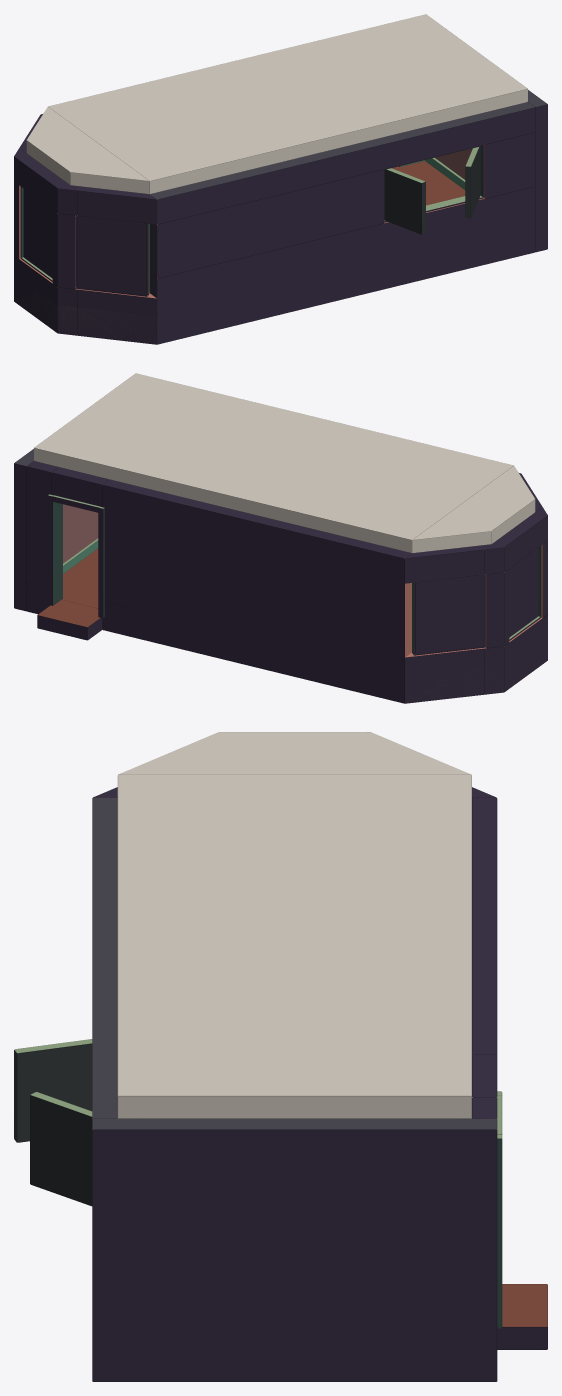
Rendered from Bedroom.fbx.
3 views of the same model, one above another, from view 1: azimuth 30°, elevation 25°; view 2: azimuth 150°, elevation 25°; view 3: azimuth 270°, elevation 25° (orthographic). The views are drawn at different scales.
Visible parts, largest first — view 1: cuboid_3, wall behind_16, wall behind_18, wall behind, cuboid_4, cuboid_8, wall behind_14, wall behind_13, wall behind_17, wall behind_1, wall behind_10, cuboid_6 (+11 smaller); view 2: wall behind_7, cuboid_3, cuboid_4, cuboid_9, wall behind_15, wall behind_1, wall behind_8, wall behind_13, frames_9, wall behind_9, wall behind_11, wall behind_2 (+10 smaller); view 3: cuboid_3, wall behind_1, cuboid_4, wall behind, wall behind_7, cuboid_5, cuboid_6, cuboid_2, frames_9, wall behind_12.
Part boxes in pixels (x1,y1,x2,y2): cuboid_3: [48, 14, 527, 193]; wall behind_16: [150, 186, 535, 344]; wall behind_18: [150, 169, 383, 278]; wall behind: [150, 102, 535, 224]; cuboid_4: [26, 107, 149, 193]; cuboid_8: [77, 216, 147, 295]; wall behind_14: [77, 289, 156, 344]; wall behind_13: [14, 255, 77, 335]; wall behind_17: [484, 132, 535, 198]; wall behind_1: [435, 90, 547, 252]; wall behind_10: [71, 185, 156, 224]; cuboid_6: [384, 168, 425, 234]; wall behind_7: [102, 479, 411, 703]; cuboid_3: [34, 373, 513, 552]; cuboid_4: [412, 466, 535, 552]; cuboid_9: [415, 575, 484, 654]; wall behind_15: [405, 647, 485, 703]; wall behind_1: [14, 449, 109, 611]; wall behind_8: [26, 461, 58, 614]; wall behind_13: [484, 614, 547, 694]; frames_9: [48, 494, 104, 617]; wall behind_9: [405, 544, 490, 583]; wall behind_11: [484, 507, 547, 574]; wall behind_2: [102, 601, 404, 703]; cuboid_3: [117, 775, 471, 1118]; wall behind_1: [92, 1118, 497, 1381]; cuboid_4: [118, 732, 471, 774]; wall behind: [92, 797, 117, 1129]; wall behind_7: [472, 797, 497, 1054]; cuboid_5: [30, 1092, 92, 1206]; cuboid_6: [14, 1039, 92, 1142]; cuboid_2: [497, 1284, 547, 1349]; frames_9: [472, 1091, 502, 1328]; wall behind_12: [472, 1054, 497, 1118].
Size of the model in its own units: 2250 by 750 by 1318.
Materials: 4 (4 with a texture image).
